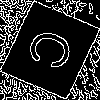C: (24, 25, 85, 78)
